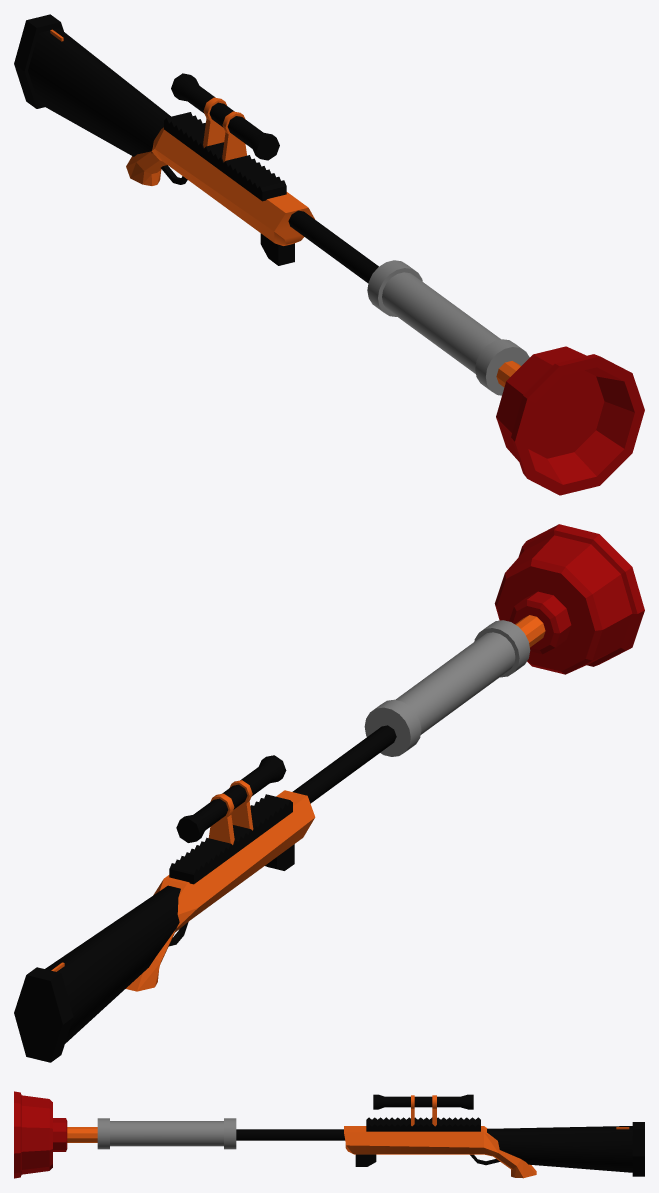
Rendered from Sniper_Gros_Projectile.fbx.
3 views of the same model, one above another, from view 1: azimuth 30°, elevation 25°; view 2: azimuth 150°, elevation 25°; view 3: azimuth 270°, elevation 25° (orthographic). The views are drawn at different scales.
Parts seen in each view (by area): view 1: Sniper, Module_Gros_Projectile; view 2: Sniper, Module_Gros_Projectile; view 3: Sniper, Module_Gros_Projectile.
Boxes of the visible parts, x1=… form: Sniper: x1=14, y1=14, x2=378, y2=282; Module_Gros_Projectile: x1=367, y1=260, x2=644, y2=495; Sniper: x1=14, y1=725, x2=396, y2=1062; Module_Gros_Projectile: x1=364, y1=524, x2=644, y2=756; Sniper: x1=236, y1=1094, x2=644, y2=1178; Module_Gros_Projectile: x1=14, y1=1091, x2=236, y2=1178.
Size of the model in its own units: 19.02 by 19.06 by 137.
